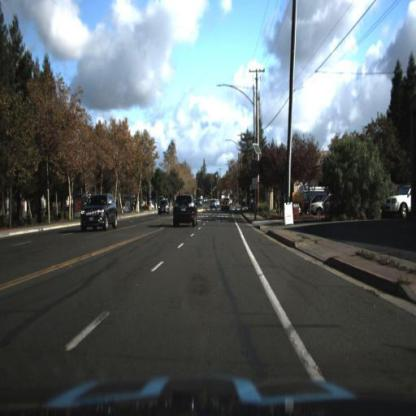car: (78, 190, 121, 236), (171, 190, 205, 237), (309, 193, 336, 221), (153, 197, 173, 219), (220, 198, 231, 212)
